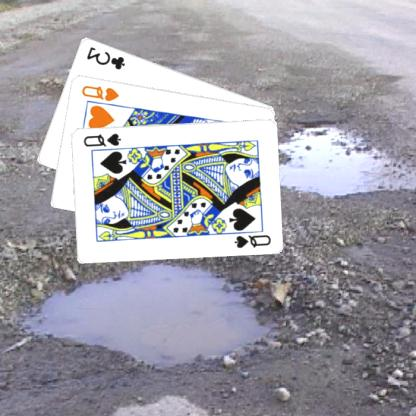3C: (85, 43, 128, 71)
QH: (80, 82, 122, 102)
QS: (82, 130, 124, 148), (233, 232, 273, 250)
